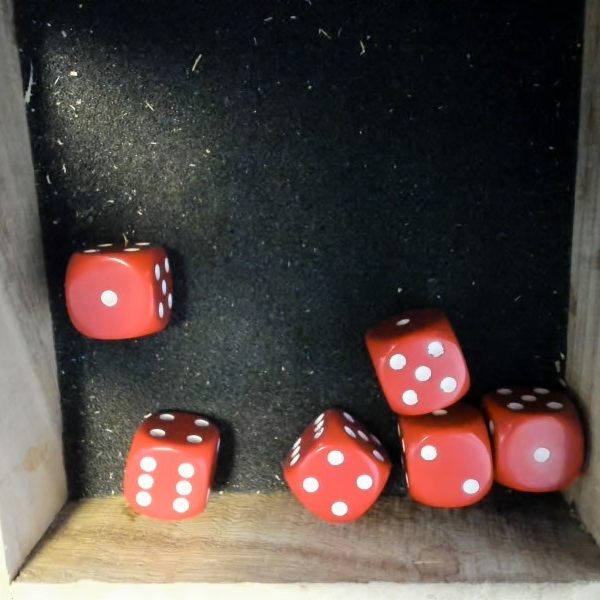red_die_pip1: (65, 240, 177, 340), (484, 386, 584, 492)
red_die_pip2: (400, 405, 494, 508)
red_die_pip4: (263, 396, 408, 542)
red_die_pip5: (355, 299, 477, 426)
red_die_pip6: (117, 403, 225, 526)
